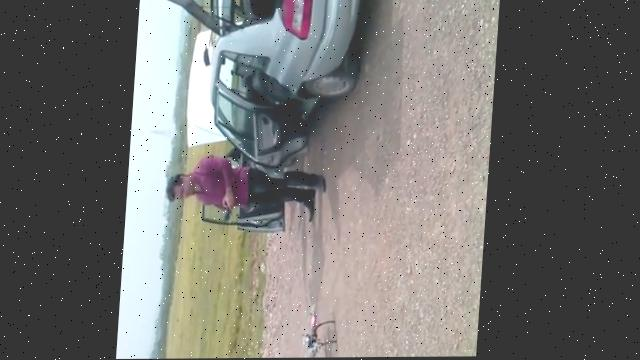drone: (300, 302, 344, 358)
